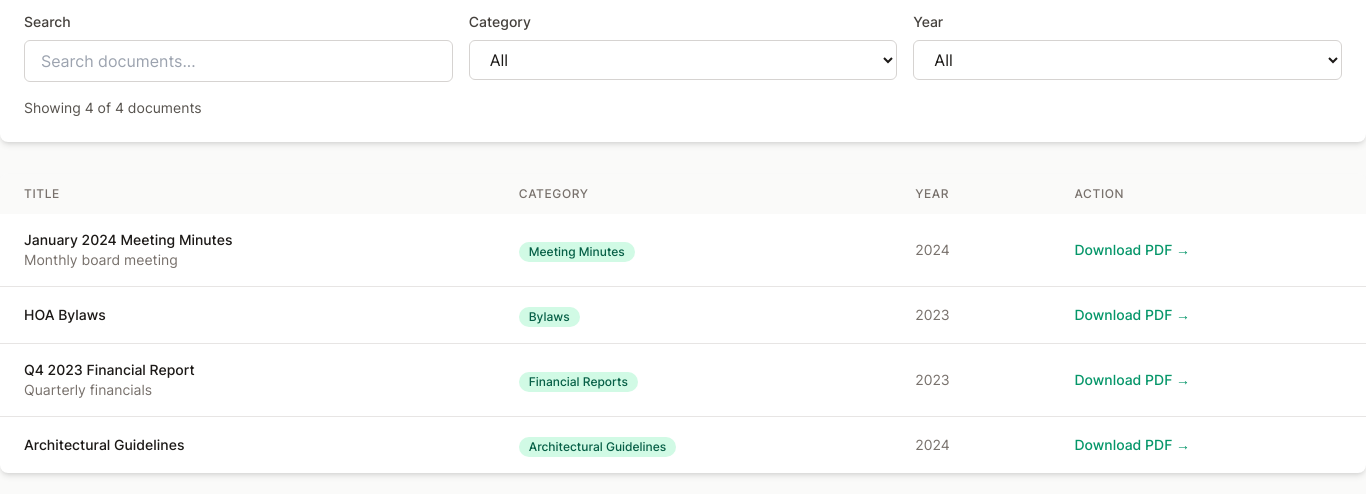
Test: DocumentsFilter › should filter documents by year
The image size is (1366, 494).
Select "2024" in the dropdown with test id "year-filter" at x=1128, y=60, box [913,40,1342,80]
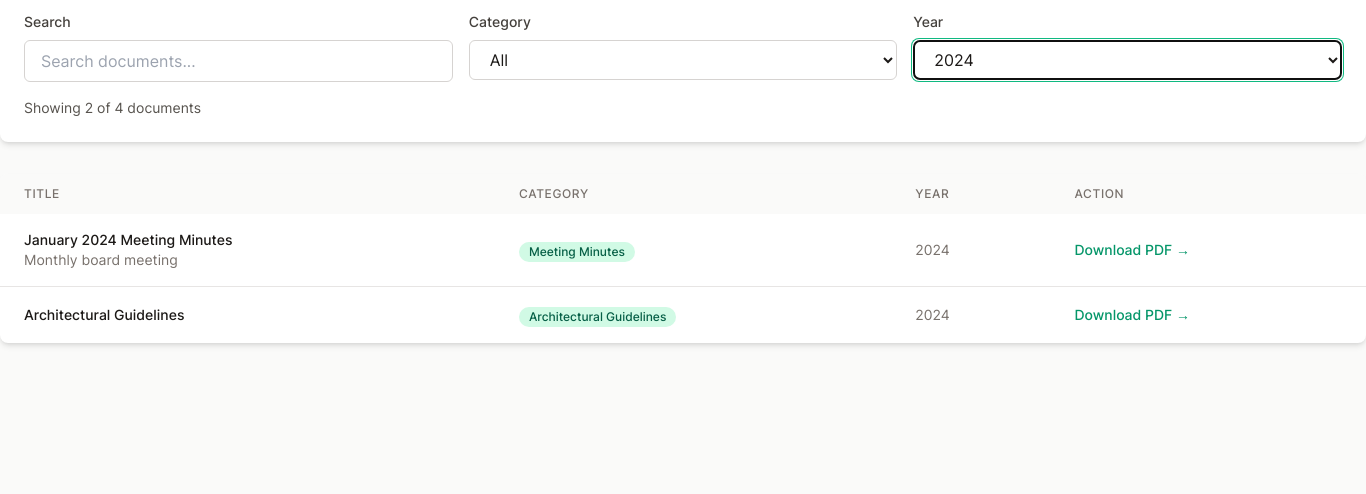
Expected: the text "January 2024 Meeting Minutes" is shown, [24,231,232,248]
Result: the text "HOA Bylaws" is gone
Result: the text "Showing 2 of 4 documents" is shown at [24,99,201,116]
